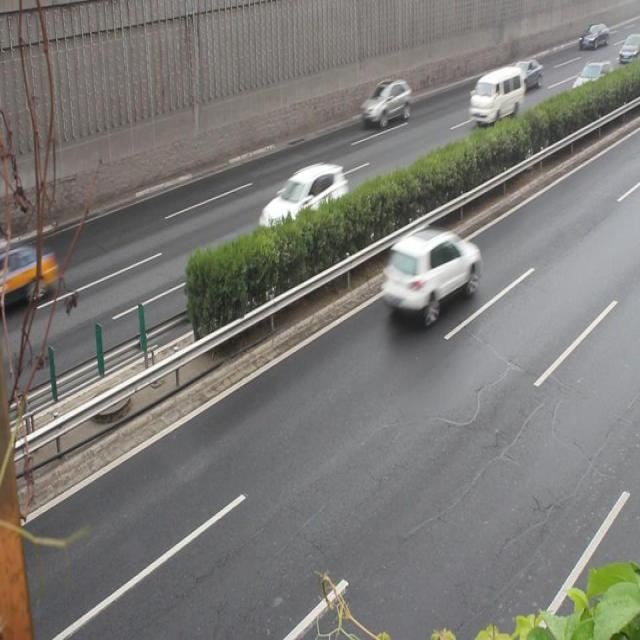car: (378, 227, 478, 321), (257, 164, 347, 243), (1, 245, 57, 307), (361, 78, 411, 127), (502, 58, 542, 90)
truck: (468, 66, 524, 124)
